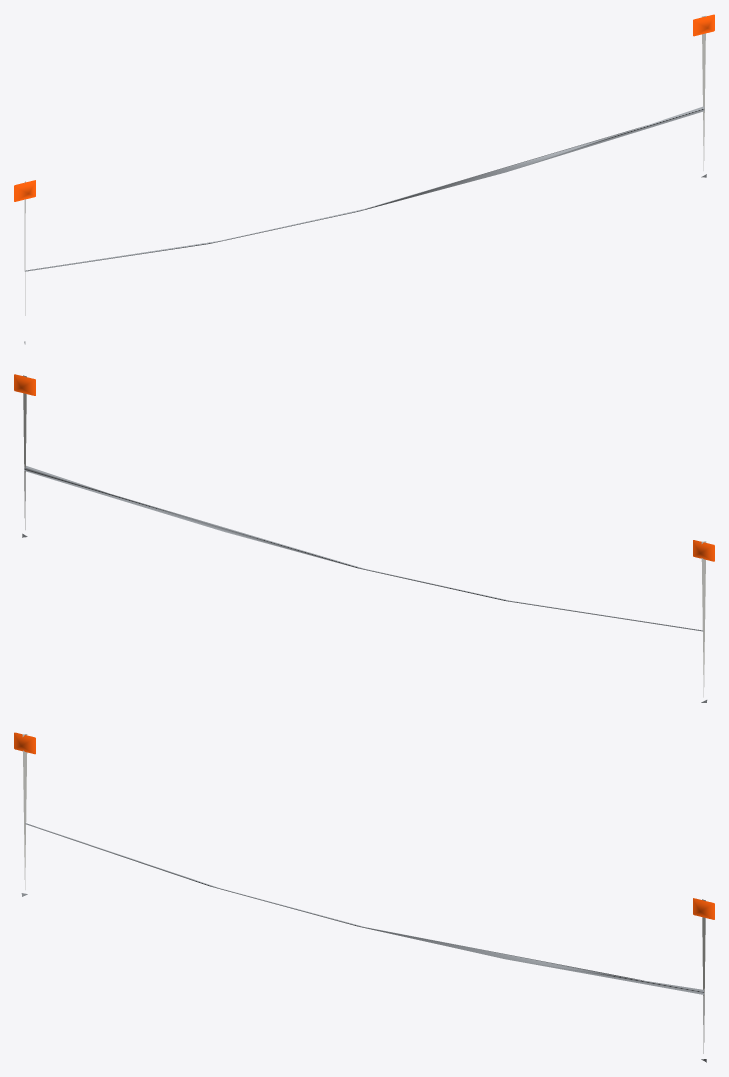
File: chain_set_lod2.glb
The picture shows the model from 3 angles, top to bottom: view 1: azimuth 30°, elevation 25°; view 2: azimuth 150°, elevation 25°; view 3: azimuth 330°, elevation 25°; orthographic projection.
Visible parts, largest first — view 1: chain_set_lod2; view 2: chain_set_lod2; view 3: chain_set_lod2.
Boxes of the visible parts, bbox=[...] form: chain_set_lod2: bbox=[14, 14, 714, 344]; chain_set_lod2: bbox=[14, 374, 714, 702]; chain_set_lod2: bbox=[14, 732, 714, 1062].
Bounding box in the file's own units: 9.49 × 2.1 × 0.176.
